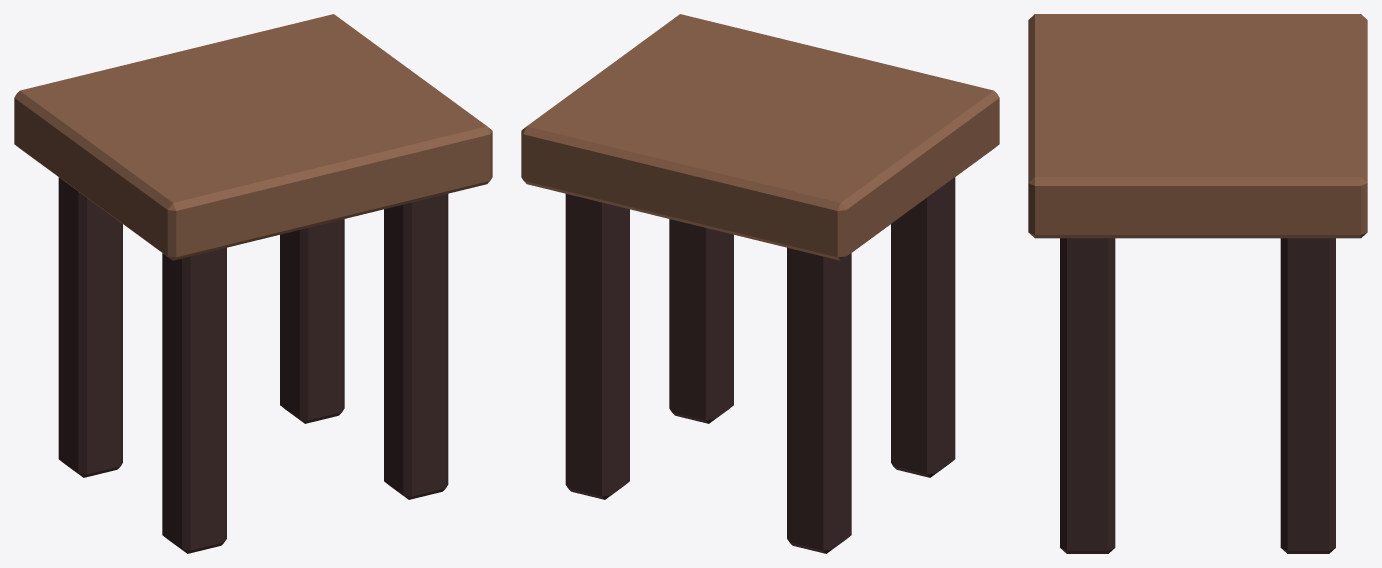
The model's file is reading_stool.glb.
The picture shows the model from 3 angles, left to right: view 1: azimuth 30°, elevation 25°; view 2: azimuth 150°, elevation 25°; view 3: azimuth 270°, elevation 25°; orthographic projection. The views are drawn at different scales.
Parts seen in each view (by area): view 1: reading_stool_Cedar, reading_stool_Timber; view 2: reading_stool_Cedar, reading_stool_Timber; view 3: reading_stool_Cedar, reading_stool_Timber.
Boxes of the visible parts, bbox=[...] form: reading_stool_Cedar: bbox=[14, 14, 492, 260]; reading_stool_Timber: bbox=[58, 177, 448, 553]; reading_stool_Cedar: bbox=[521, 14, 999, 260]; reading_stool_Timber: bbox=[565, 177, 955, 553]; reading_stool_Cedar: bbox=[1028, 14, 1367, 238]; reading_stool_Timber: bbox=[1060, 238, 1335, 553].
Bounding box in the file's own units: 0.47 × 0.51 × 0.4.
